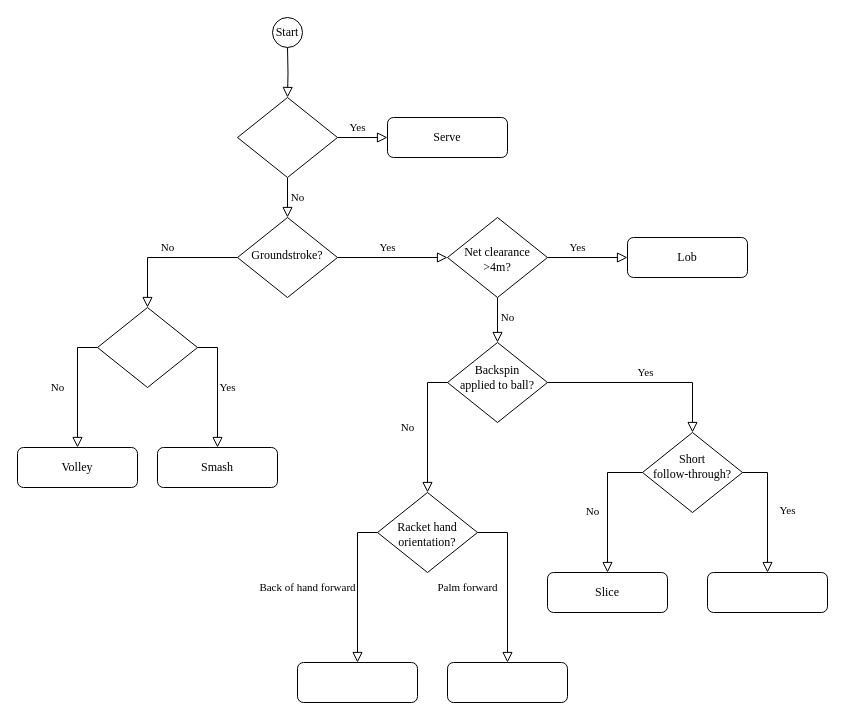
Some shapes in this 845 by 720 pixel diagram are drawn without their labels. The shapes that lost their labels are listed below. From the top down, each one's centre as x and y in pixels, then its label:
point 287,137: First shot of rally?
point 147,347: Overhead?
point 767,592: Drop Shot
point 357,682: Backhand
point 507,682: Forehand
